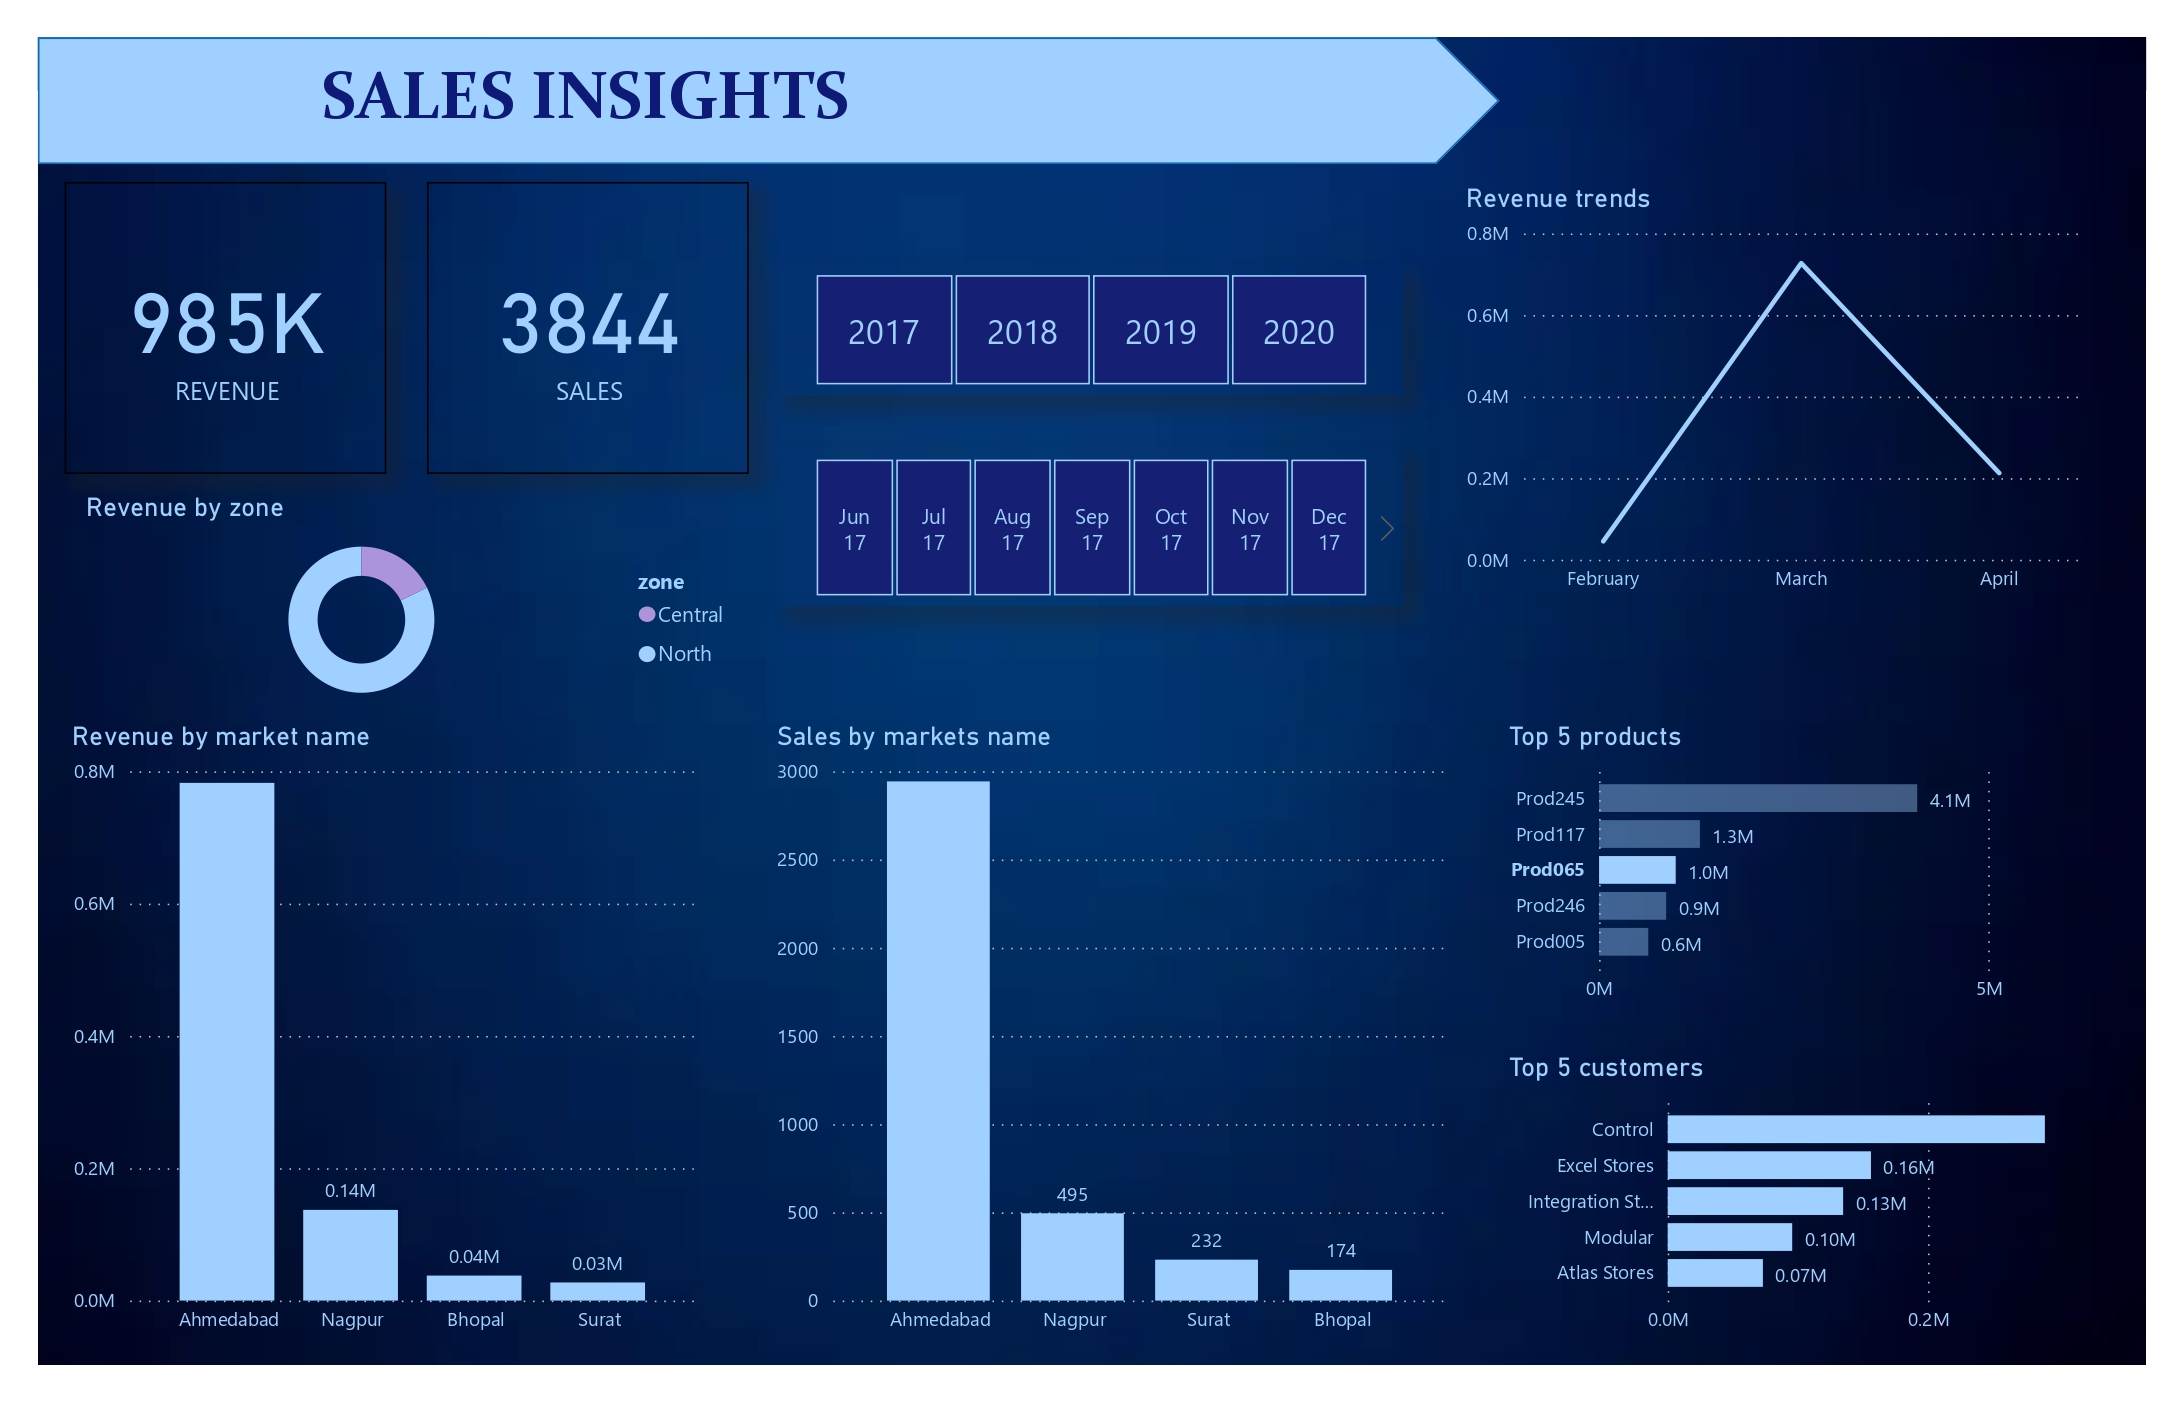

The dashboard page shown, as its layout file describes it:
{"tool":"powerbi","page":{"name":"Key Insights","canvas":[1350,850],"ordinal":0},"visuals":[{"type":"group","id":"g1","title":"Group 1","box":[0,0,936.4,81],"z":0},{"type":"shape","box":[0,0,936.4,81],"z":0,"group":"g1"},{"type":"textbox","box":[28.9,5.8,644,68],"z":1000,"group":"g1"},{"type":"card","fields":{"Values":["NEW MEASURE.REVENUE"]},"box":[17.4,92.6,205.5,186.7],"z":1000},{"type":"card","fields":{"Values":["NEW MEASURE.SALES"]},"box":[248.9,92.6,205.5,186.7],"z":2000},{"type":"slicer","fields":{"Values":["date.year"]},"box":[473.3,144.7,402.3,83.9],"z":3000},{"type":"columnChart","title":"Revenue by market  name","fields":{"Y":["NEW MEASURE.REVENUE"],"Category":["markets.markets_name"]},"box":[17.4,437.1,411,402.3],"z":4000},{"type":"columnChart","title":"Sales by markets name","fields":{"Category":["markets.markets_name"],"Y":["NEW MEASURE.SALES"]},"box":[468.9,437.1,441.4,402.3],"z":5000},{"type":"barChart","title":"Top 5 products","fields":{"Category":["products.product_code"],"Y":["NEW MEASURE.REVENUE"]},"box":[936.4,437.1,376.3,189.6],"z":6000},{"type":"barChart","title":"Top 5 customers","fields":{"Category":["customers.custmer_name"],"Y":["NEW MEASURE.REVENUE"]},"box":[936.4,649.8,376.3,189.6],"z":7000},{"type":"slicer","fields":{"Values":["date.cy_date"]},"box":[473.3,263.4,402.3,101.3],"z":8000},{"type":"donutChart","title":"Revenue by zone","fields":{"Y":["NEW MEASURE.REVENUE"],"Series":["markets.zone"]},"box":[26.1,290.9,428.4,146.2],"z":9000},{"type":"lineChart","title":"Revenue trends","fields":{"Y":["NEW MEASURE.REVENUE"],"Category":["date.cy_date.Variation.Date Hierarchy.Month"]},"box":[910.3,92.6,402.3,272.1],"z":10000}]}

Visuals, with their boxes in screenshot pixels (x1, y1, x2, y2):
"Group 1" group: box(37, 37, 1500, 164)
shape: box(37, 37, 1500, 164)
textbox: box(83, 47, 1089, 153)
card - NEW MEASURE.REVENUE: box(65, 182, 386, 474)
card - NEW MEASURE.SALES: box(426, 182, 747, 474)
slicer - date.year: box(777, 263, 1405, 394)
"Revenue by market  name" columnChart: box(65, 720, 707, 1348)
"Sales by markets name" columnChart: box(770, 720, 1460, 1348)
"Top 5 products" barChart: box(1500, 720, 2088, 1016)
"Top 5 customers" barChart: box(1500, 1052, 2088, 1348)
slicer - date.cy_date: box(777, 449, 1405, 607)
"Revenue by zone" donutChart: box(78, 492, 748, 720)
"Revenue trends" lineChart: box(1460, 182, 2088, 607)
